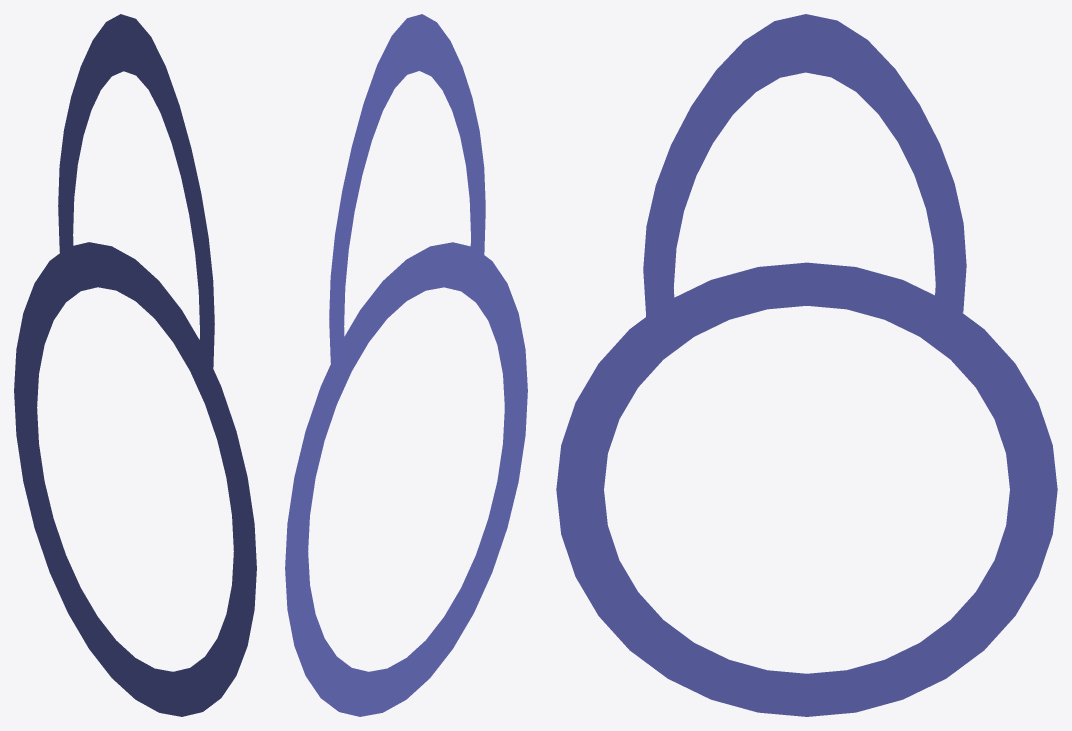
3 renders of one model, left to right at view 1: azimuth 30°, elevation 25°; view 2: azimuth 150°, elevation 25°; view 3: azimuth 270°, elevation 25°, orthographic. The views are drawn at different scales.
Visible parts, largest first — view 1: Circle.001, Circle.002; view 2: Circle.001, Circle.002; view 3: Circle.001, Circle.002.
Part boxes in pixels (left/top/right/bottom): Circle.001: left=14, top=242, right=256, bottom=716; Circle.002: left=58, top=14, right=214, bottom=370; Circle.001: left=285, top=242, right=527, bottom=716; Circle.002: left=329, top=14, right=485, bottom=365; Circle.001: left=556, top=262, right=1057, bottom=716; Circle.002: left=643, top=14, right=966, bottom=316.
Bounding box in the file's own units: 0.000411 × 309 × 200.
